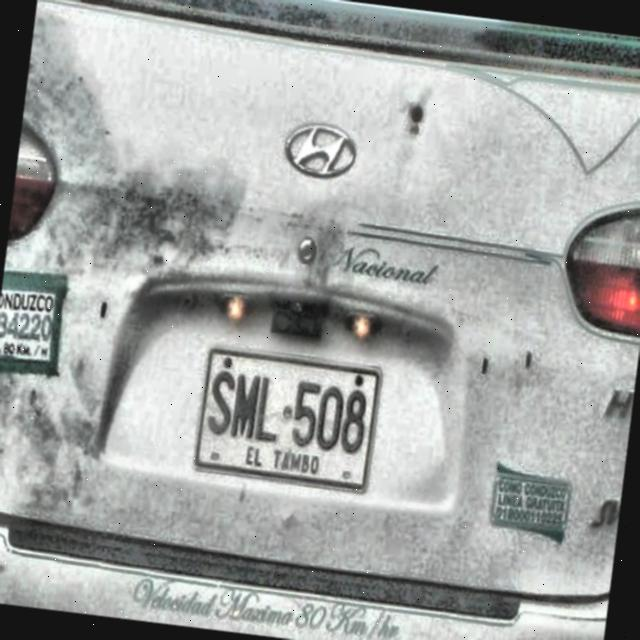plate: (197, 350, 376, 484)
